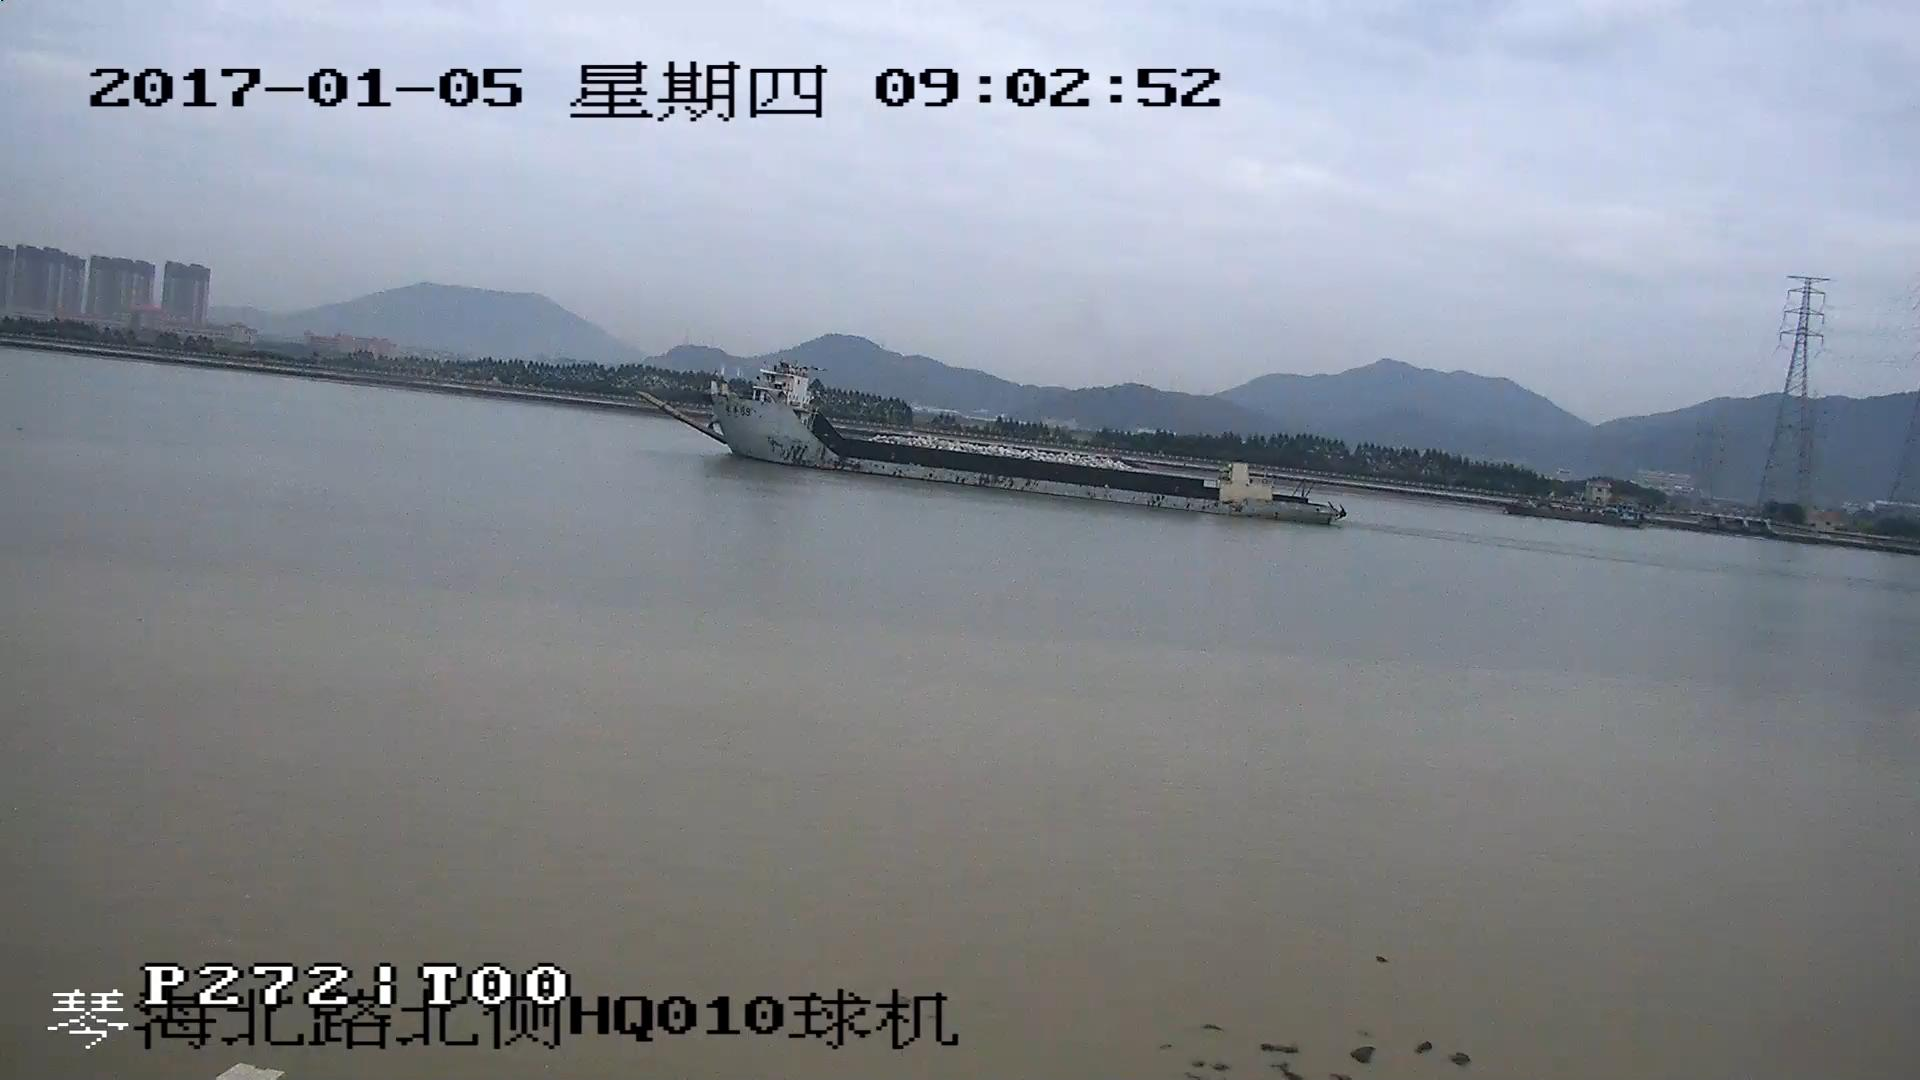bulk cargo carrier: (648, 363, 1338, 519)
